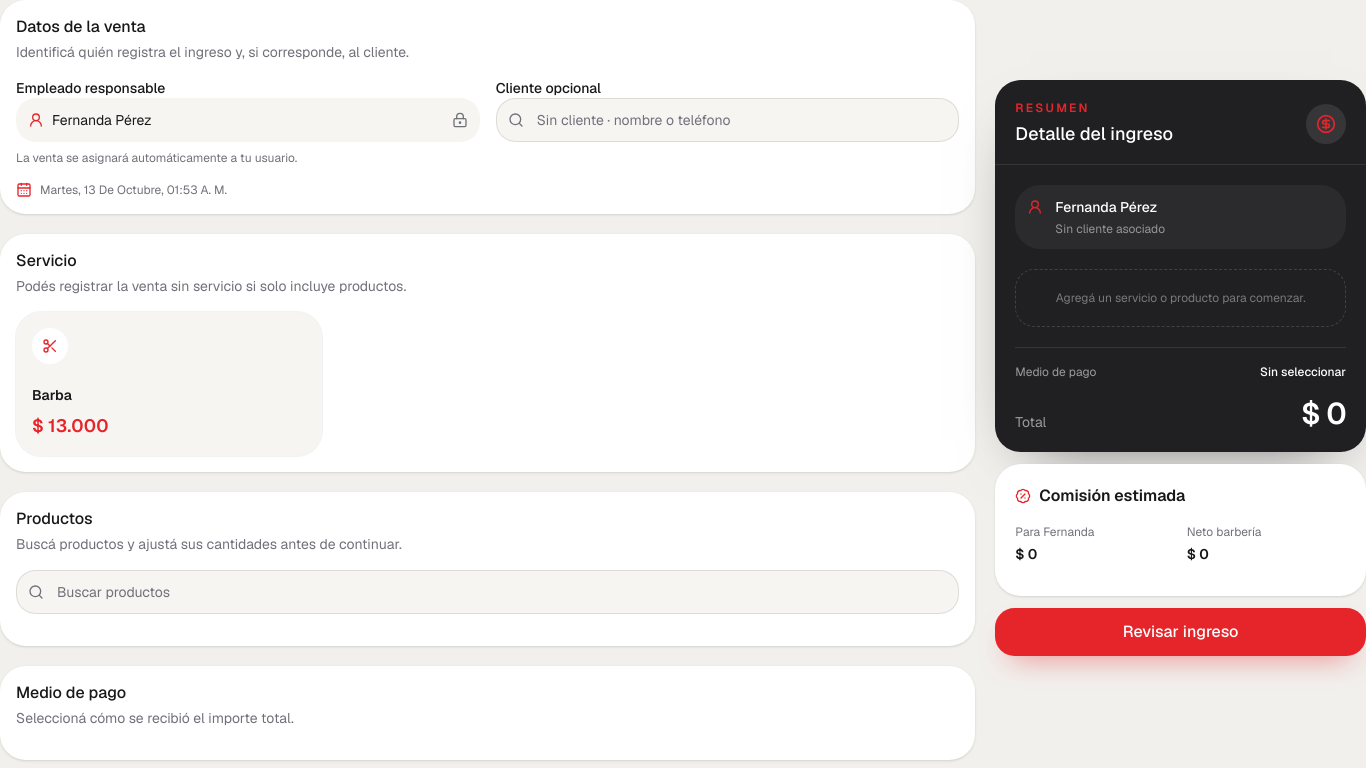
Test case: IncomeForm (manager) › validates an item and payment before review
Click the button "Revisar ingreso".
click(1181, 632)  # box [995, 608, 1365, 656]
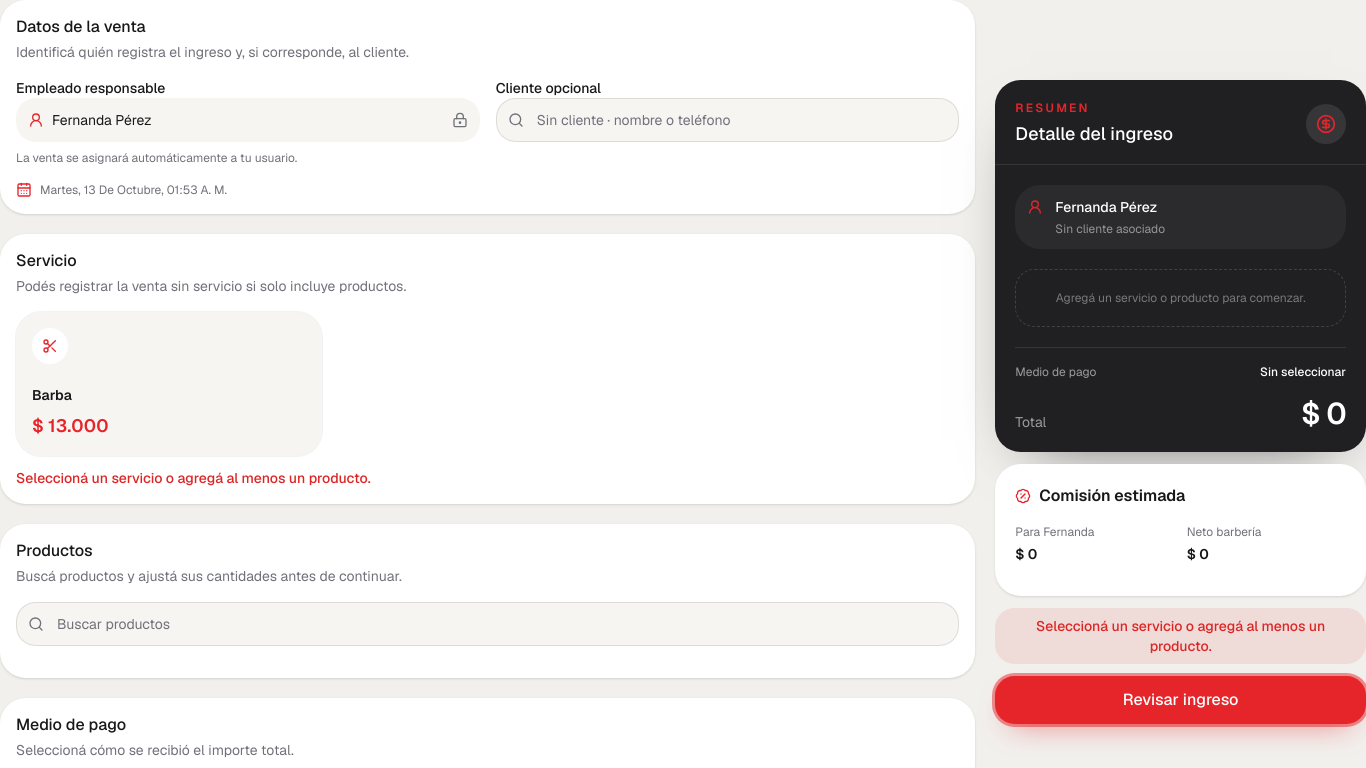
Now the text "Seleccioná un servicio o agregá al menos un producto." is shown, box [16, 469, 371, 487]
